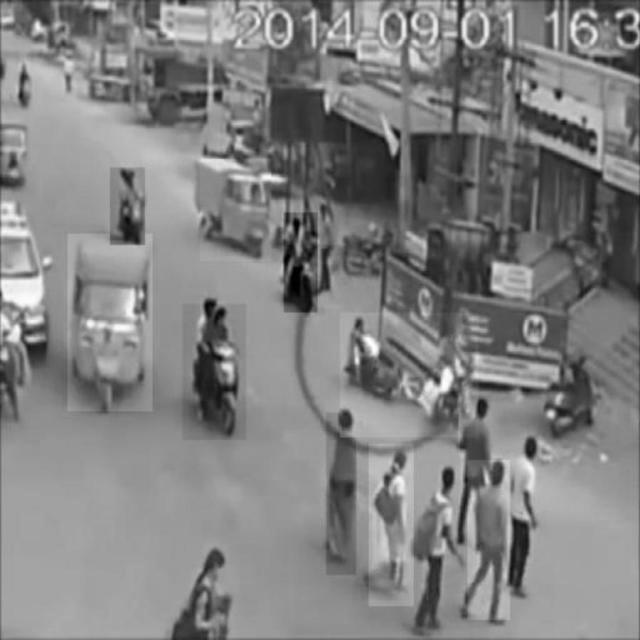accident: (340, 313, 478, 437)
person: (369, 444, 414, 606), (467, 461, 511, 621), (327, 412, 357, 576)
vehicle: (68, 235, 152, 412), (182, 304, 246, 440), (200, 159, 271, 261), (284, 213, 318, 313), (110, 168, 146, 245)
